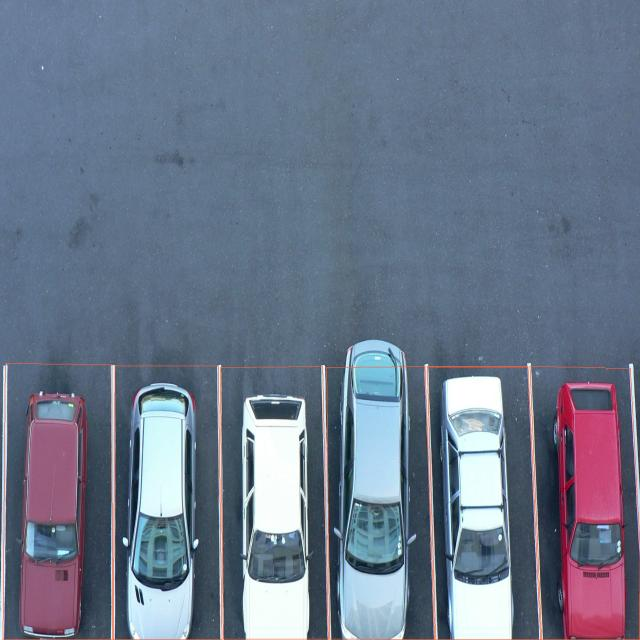space-occupied: (217, 367, 330, 638), (3, 364, 115, 637), (111, 364, 222, 639), (426, 366, 537, 639), (532, 364, 638, 640), (323, 366, 429, 640)
